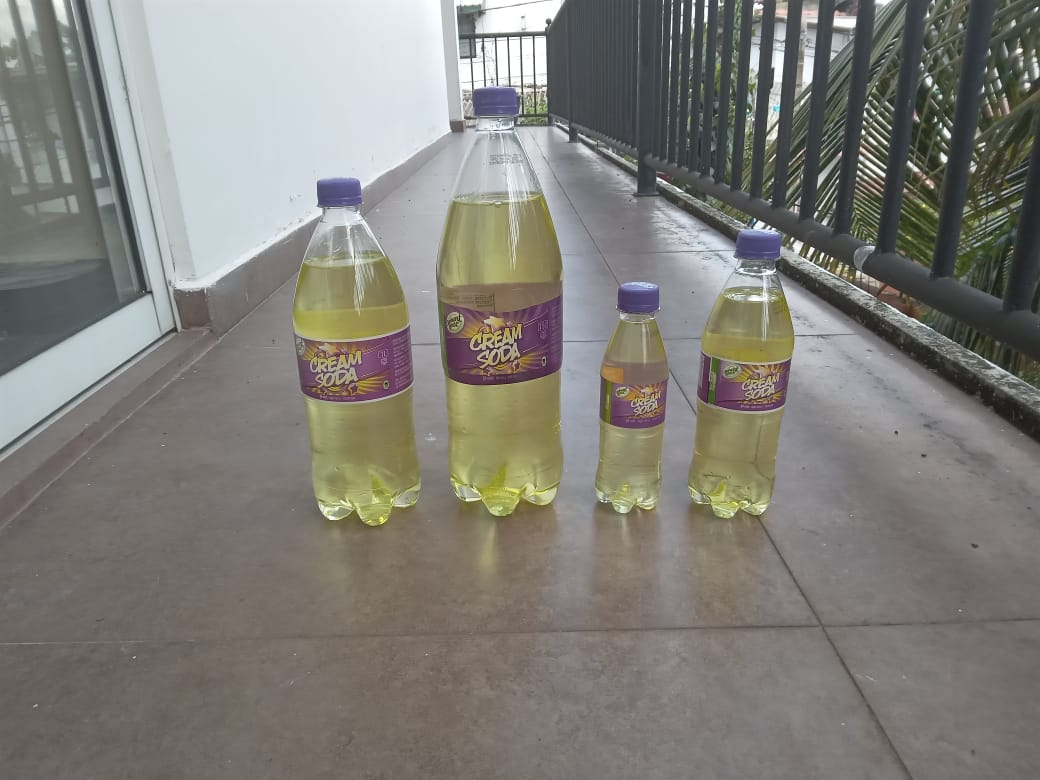L: (433, 91, 566, 515)
M: (288, 180, 422, 529)
S: (687, 230, 796, 525)
Xs: (595, 280, 670, 518)
